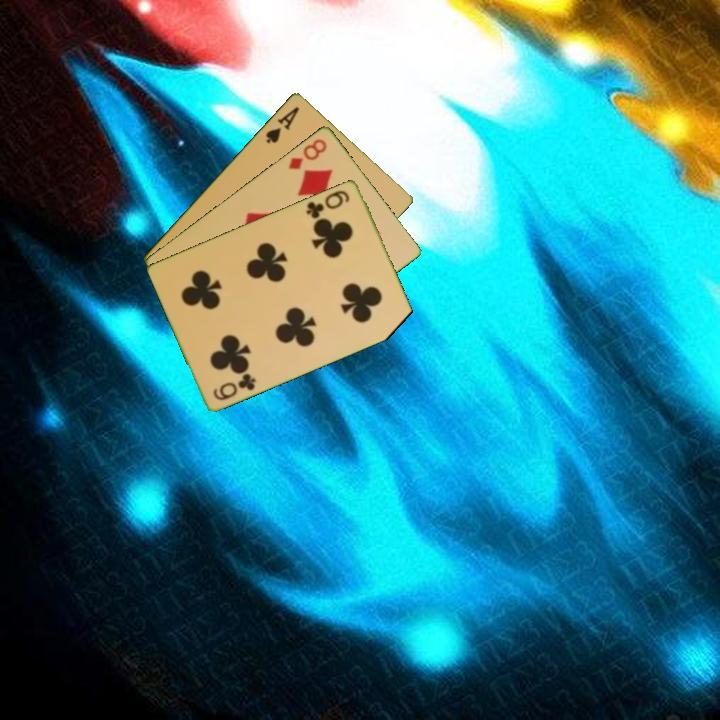6c: (303, 186, 353, 221), (210, 369, 259, 403)
8d: (285, 135, 330, 172)
As: (262, 102, 302, 146)
